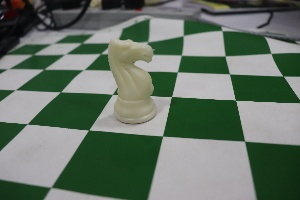white_horse: (98, 28, 166, 136)
